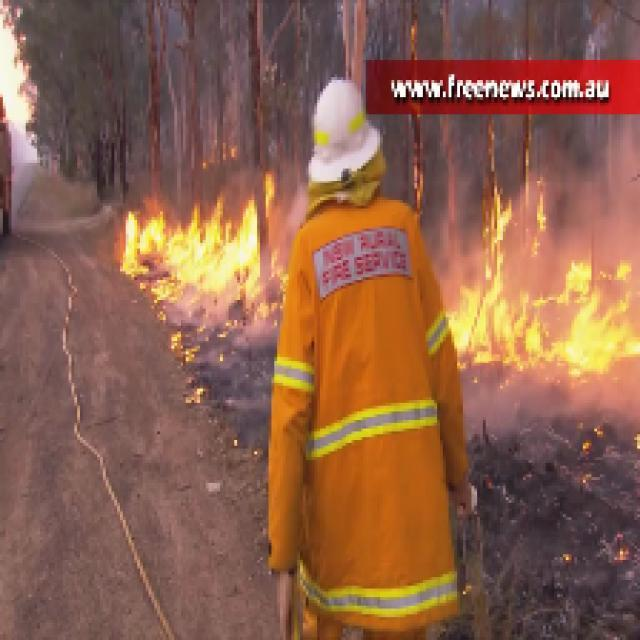Fire: (122, 186, 278, 283), (459, 283, 632, 366)
Smoke: (554, 122, 634, 248)
